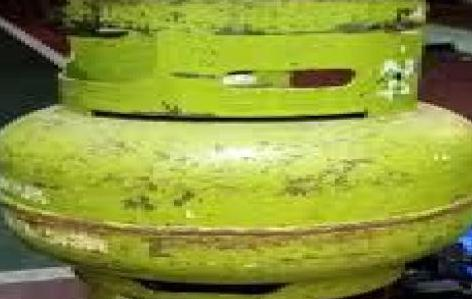cylinder: (1, 0, 472, 299)
